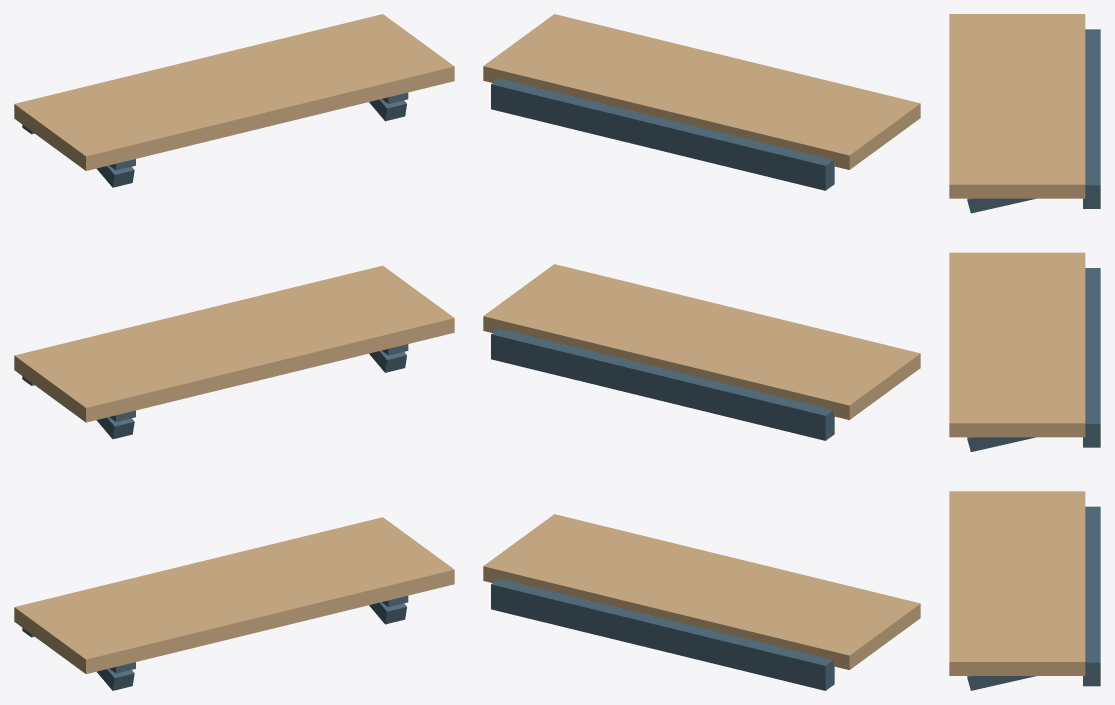
3 renders of one model, left to right at view 1: azimuth 30°, elevation 25°; view 2: azimuth 150°, elevation 25°; view 3: azimuth 270°, elevation 25°, orthographic. The views are drawn at different scales.
Visible parts, largest first — view 1: wall-shelf-board-top, wall-shelf-board-lower, wall-shelf-board-middle; view 2: wall-shelf-board-middle, wall-shelf-board-top, wall-shelf-board-lower, cantilever-wall-bar-lower, cantilever-wall-bar-middle, cantilever-wall-bar-top; view 3: wall-shelf-board-middle, wall-shelf-board-lower, wall-shelf-board-top, cantilever-wall-bar-lower, cantilever-wall-bar-middle, cantilever-wall-bar-top, cantilever-underbrace-top-right, cantilever-underbrace-middle-right, cantilever-underbrace-lower-right.
Part boxes in pixels (bbox=[...]): wall-shelf-board-top: bbox=[14, 14, 454, 170]; wall-shelf-board-lower: bbox=[14, 517, 454, 673]; wall-shelf-board-middle: bbox=[14, 265, 454, 422]; wall-shelf-board-middle: bbox=[483, 264, 920, 419]; wall-shelf-board-top: bbox=[483, 14, 920, 169]; wall-shelf-board-lower: bbox=[483, 514, 920, 669]; cantilever-wall-bar-lower: bbox=[491, 578, 834, 690]; cantilever-wall-bar-middle: bbox=[491, 328, 834, 440]; cantilever-wall-bar-top: bbox=[491, 78, 834, 190]; wall-shelf-board-middle: bbox=[949, 252, 1085, 437]; wall-shelf-board-lower: bbox=[949, 491, 1085, 675]; wall-shelf-board-top: bbox=[949, 14, 1085, 198]; cantilever-wall-bar-lower: bbox=[1083, 506, 1100, 686]; cantilever-wall-bar-middle: bbox=[1083, 268, 1100, 447]; cantilever-wall-bar-top: bbox=[1083, 29, 1100, 208]; cantilever-underbrace-top-right: bbox=[967, 198, 1035, 213]; cantilever-underbrace-middle-right: bbox=[967, 437, 1035, 451]; cantilever-underbrace-lower-right: bbox=[967, 676, 1035, 690].
Size of the model in its own units: 0.92 by 1.32 by 0.345.
